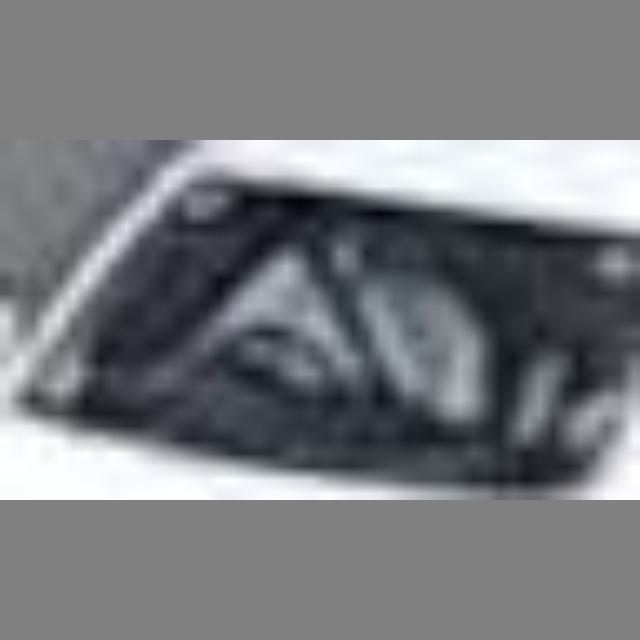pakai: (173, 207, 507, 420)
